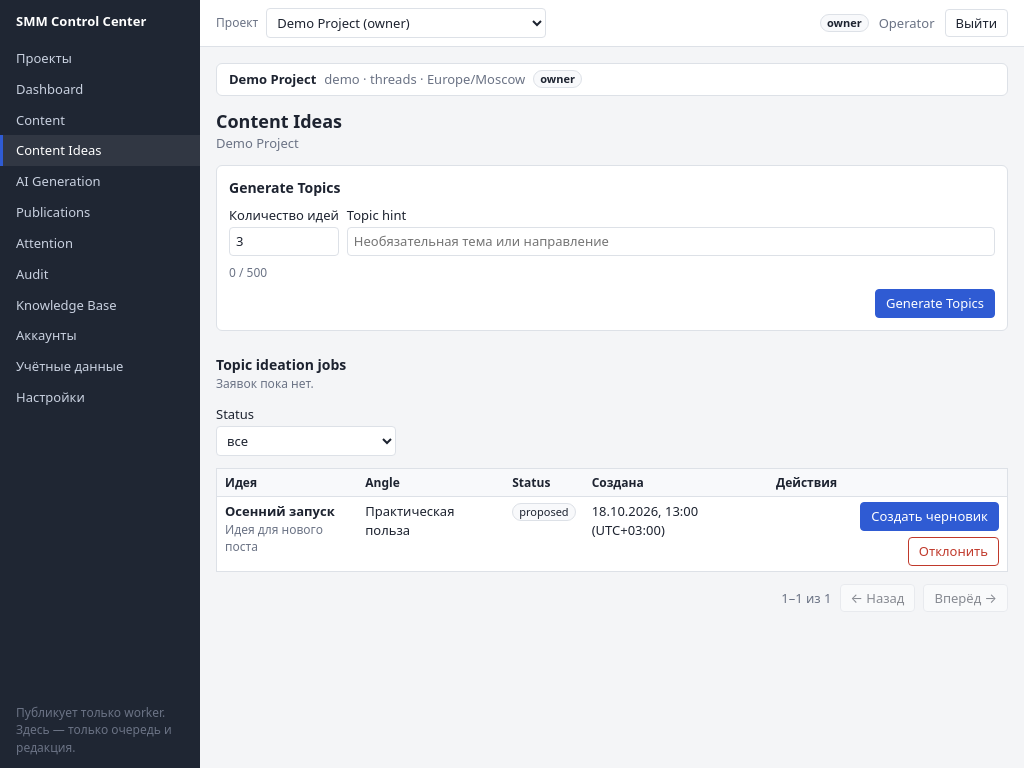
content ideas page › refreshes a lost use response and removes actions when the idea became used
The width and height of the screenshot is (1024, 768).
Click the button "Создать черновик".
click(930, 516)  # box [860,502,999,531]
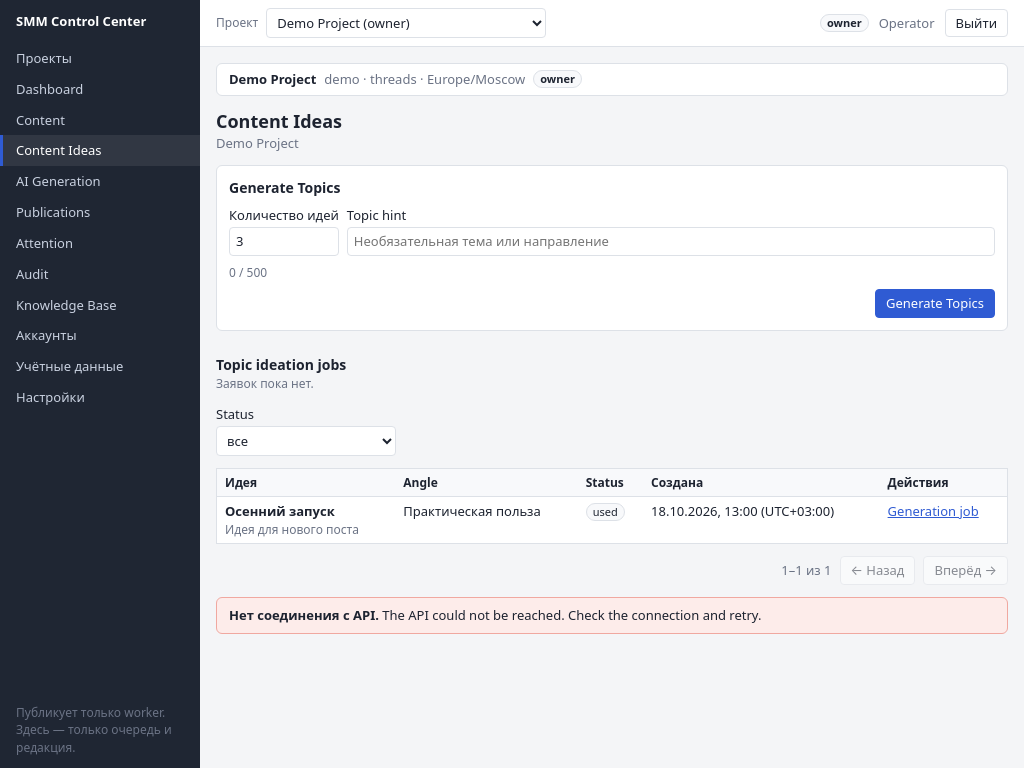
Expected: the link "Generation job" is shown, [888,502,979,520]
Expected: the button "Создать черновик" is gone
